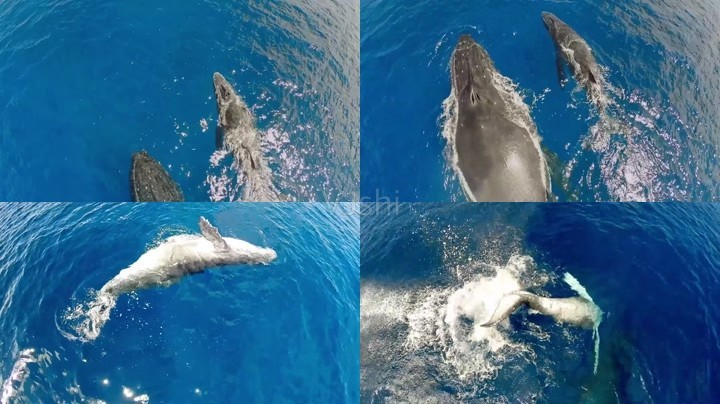fish: (62, 216, 278, 324), (426, 32, 556, 204), (479, 270, 607, 374), (207, 66, 279, 203), (538, 9, 612, 142)
